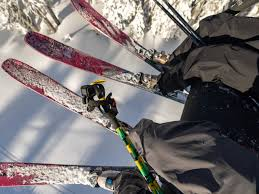skis: (1, 59, 153, 189), (24, 1, 192, 105)
